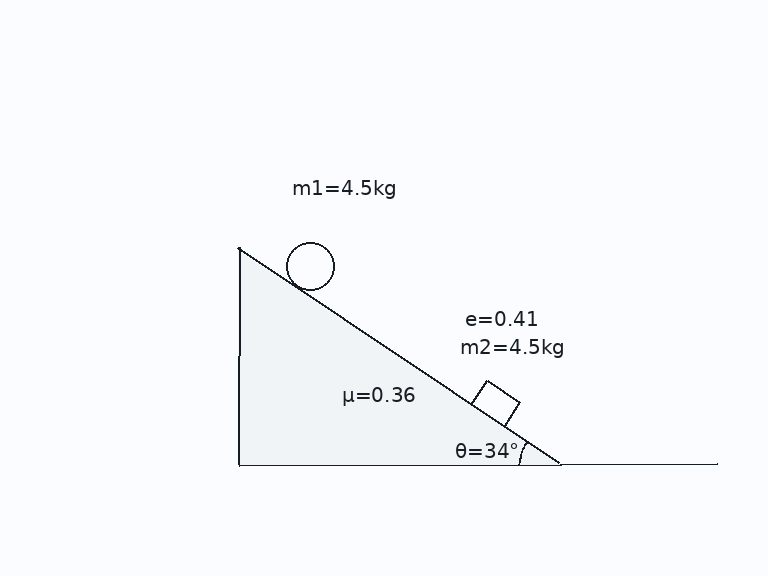ball: (284, 240, 336, 292)
block: (469, 378, 522, 428)
ramp: (236, 245, 562, 466)
